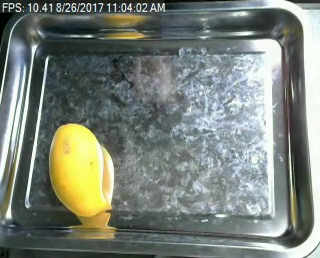Mango: (43, 118, 117, 227)
